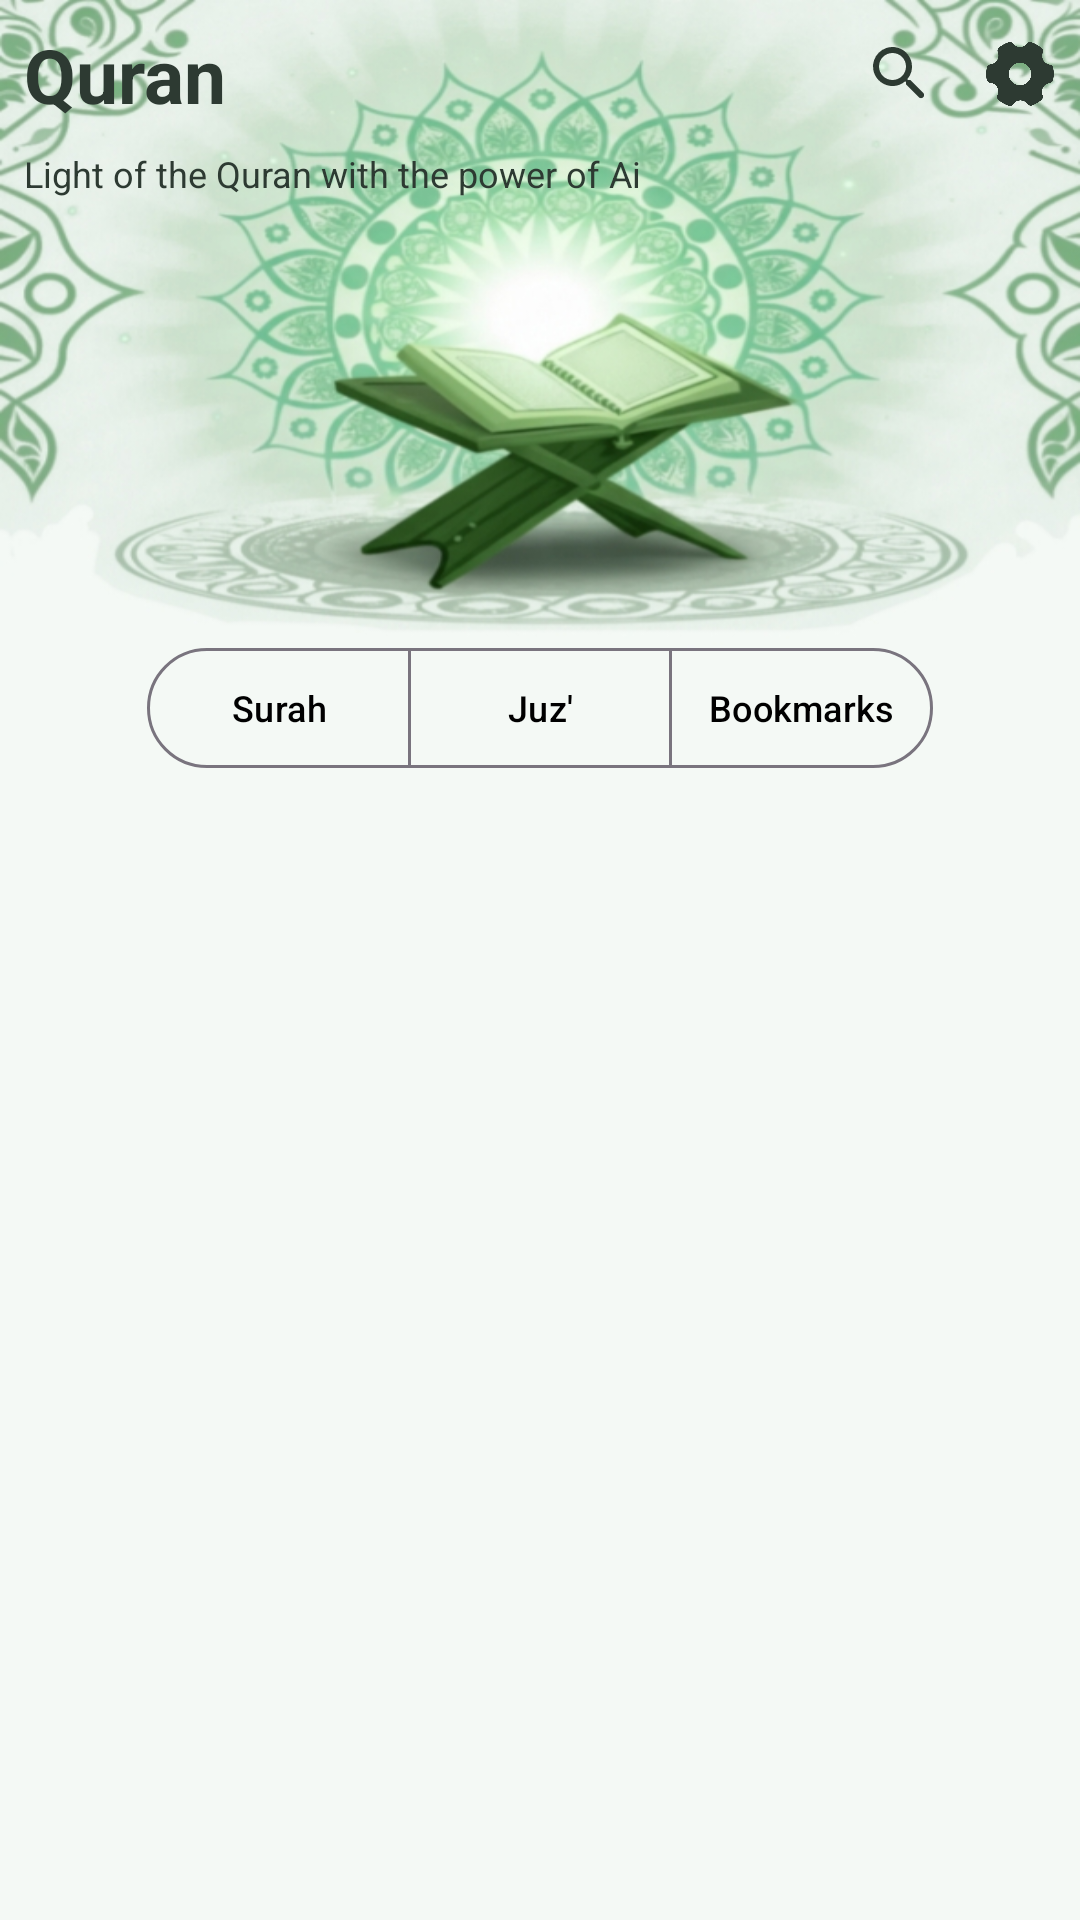

Screen size 1080×1920. Icon name, then its center in pixels as point (x, y):
search: point (916, 66)
settings: point (1020, 74)
